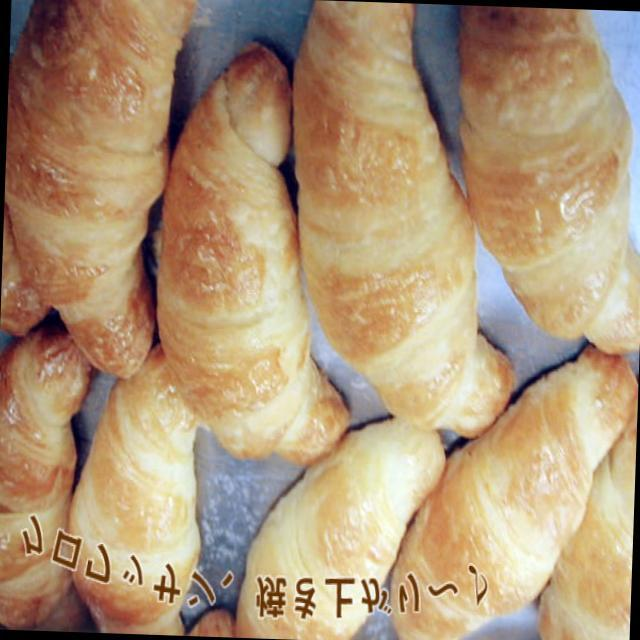Croissant: (146, 31, 344, 483)
